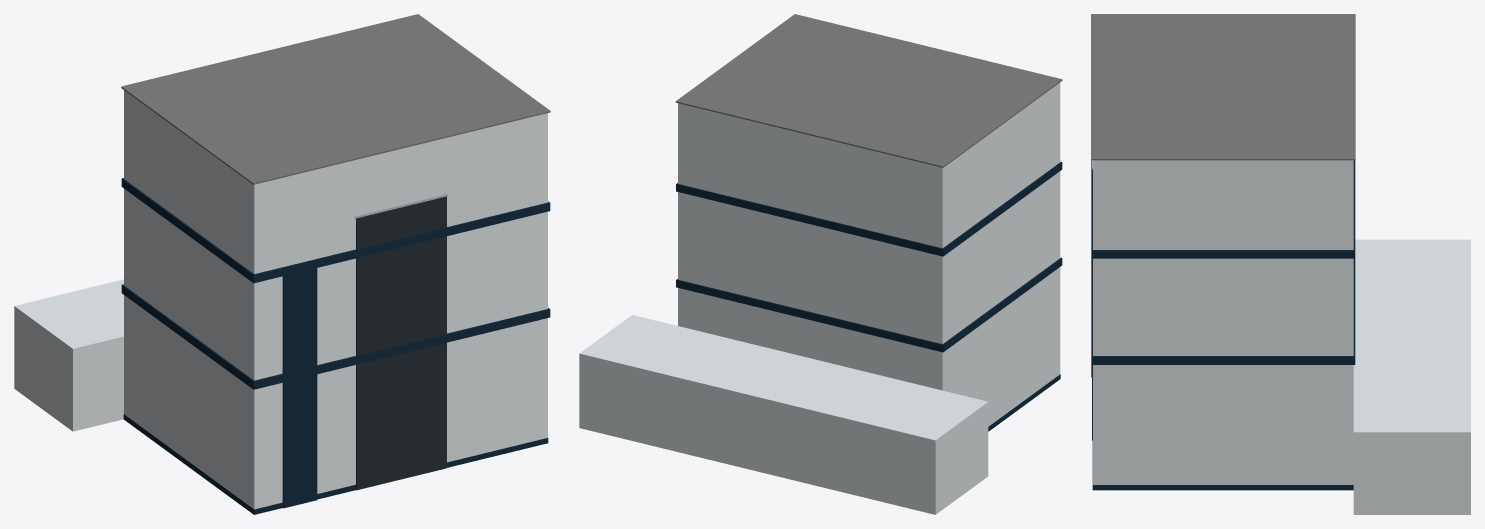
Rendered from world_site_subtropical_assembly.glb.
3 renders of one model, left to right at view 1: azimuth 30°, elevation 25°; view 2: azimuth 150°, elevation 25°; view 3: azimuth 270°, elevation 25°, orthographic. The views are drawn at different scales.
Visible parts, largest first — view 1: world_site_subtropical_assembly_mesh; view 2: world_site_subtropical_assembly_mesh; view 3: world_site_subtropical_assembly_mesh.
Boxes of the visible parts, left/top/right/bottom form: world_site_subtropical_assembly_mesh: left=14, top=14, right=550, bottom=514; world_site_subtropical_assembly_mesh: left=579, top=14, right=1062, bottom=514; world_site_subtropical_assembly_mesh: left=1091, top=14, right=1470, bottom=514.
Bounding box in the file's own units: 70 × 56.26 × 58.3.
